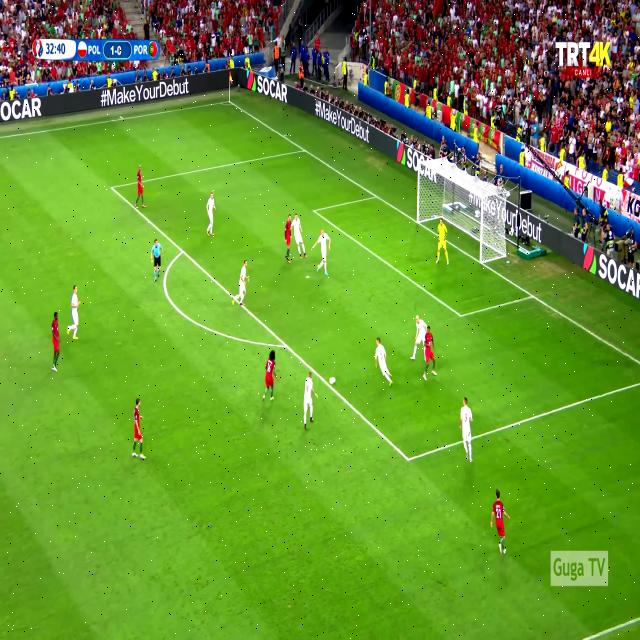Ball: (328, 375, 338, 389)
GoalKeeper: (435, 218, 450, 268)
TEAM 1: (373, 338, 395, 389), (459, 398, 474, 462), (311, 230, 330, 275), (412, 314, 427, 370), (302, 375, 317, 429), (70, 284, 82, 340), (292, 214, 307, 258), (237, 259, 249, 308), (205, 192, 216, 236)
TEAM 2: (492, 491, 512, 556), (132, 398, 146, 462), (49, 312, 62, 372), (262, 351, 276, 403), (423, 328, 436, 383), (279, 213, 292, 257), (136, 166, 147, 210)
